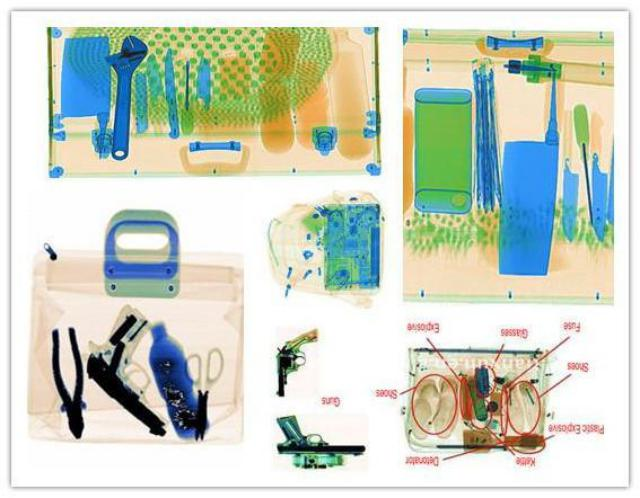Gun: (274, 411, 366, 454), (272, 329, 316, 394)
Knife: (495, 67, 557, 275), (586, 149, 610, 240), (562, 153, 578, 240)
Pliers: (46, 324, 85, 437)
Wrench: (102, 32, 148, 157)
